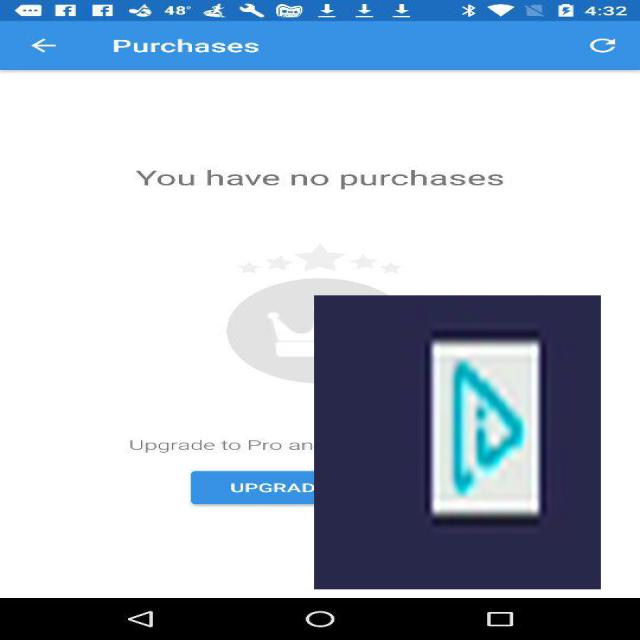sneaking: (314, 296, 601, 590)
